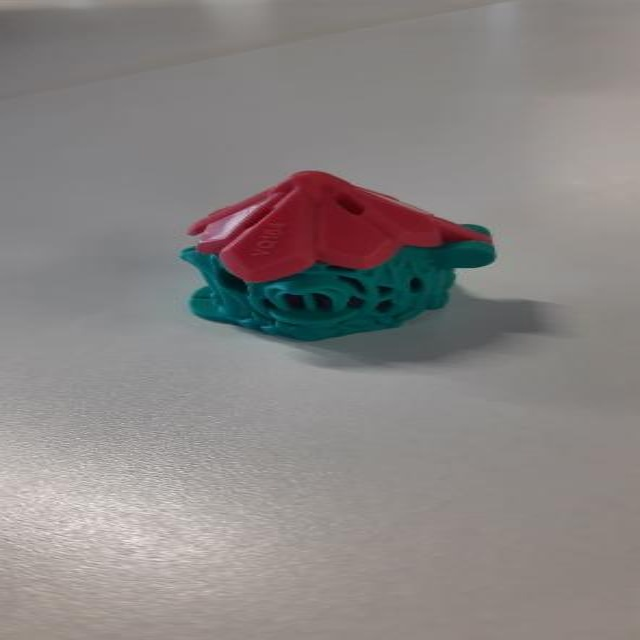House: (157, 160, 507, 352)
